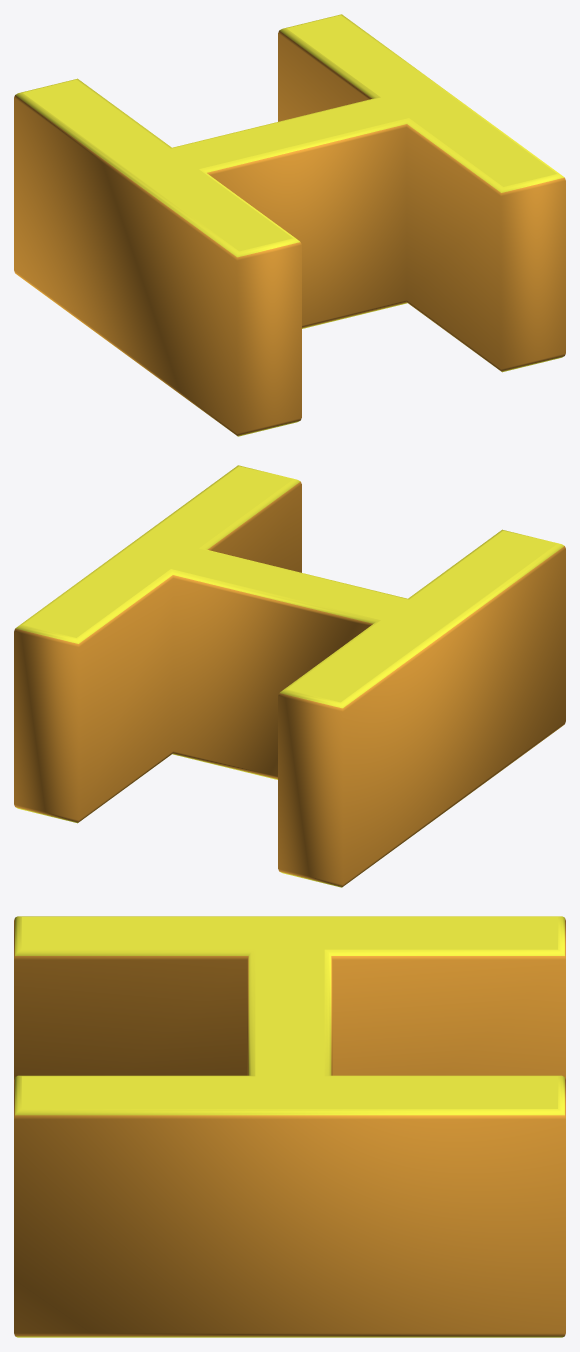
File: letter_H.fbx
The picture shows the model from 3 angles, top to bottom: view 1: azimuth 30°, elevation 25°; view 2: azimuth 150°, elevation 25°; view 3: azimuth 270°, elevation 25°; orthographic projection. The views are drawn at different scales.
Parts seen in each view (by area): view 1: Letter_H; view 2: Letter_H; view 3: Letter_H.
Boxes of the visible parts, left/top/right/bottom form: Letter_H: left=14, top=14, right=565, bottom=436; Letter_H: left=14, top=465, right=565, bottom=887; Letter_H: left=14, top=916, right=565, bottom=1337.
Size of the model in its own units: 59.8 by 32 by 70.2.
